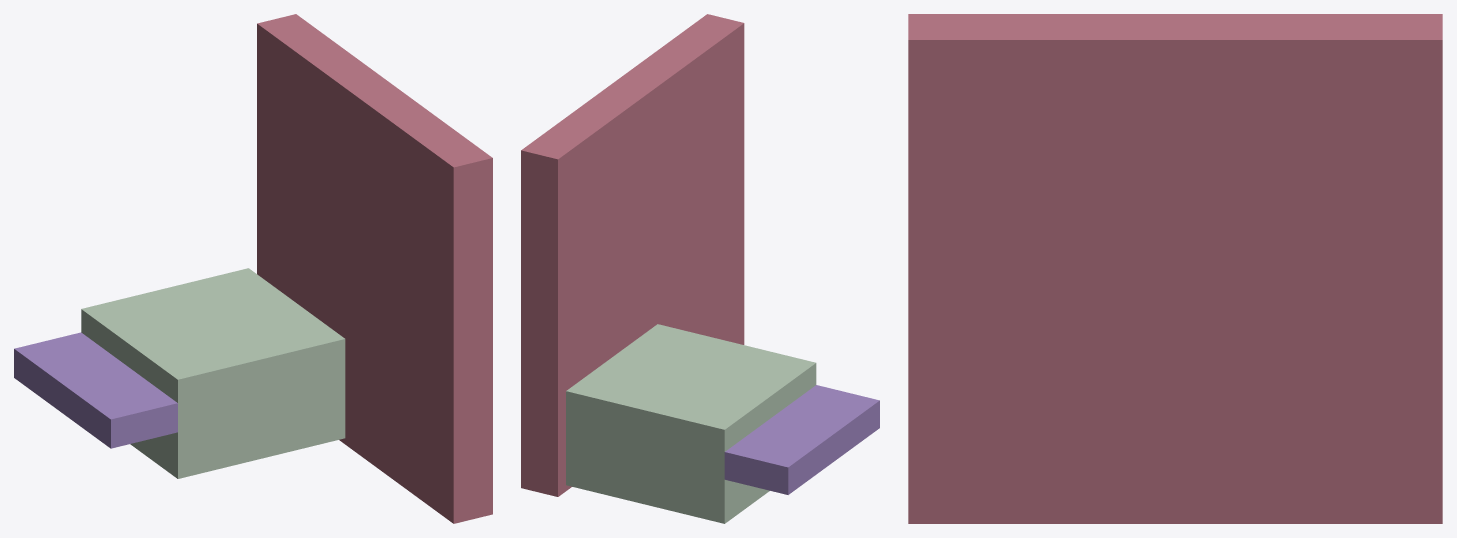
The picture shows the model from 3 angles, left to right: view 1: azimuth 30°, elevation 25°; view 2: azimuth 150°, elevation 25°; view 3: azimuth 270°, elevation 25°; orthographic projection. The views are drawn at different scales.
Visible parts, largest first — view 1: world; view 2: world; view 3: world.
Part boxes in pixels (x1,y1,x2,y2): world: [14, 14, 492, 523]; world: [521, 14, 879, 523]; world: [908, 14, 1442, 523].
Bounding box in the file's own units: 5.05 × 6.1 × 6.1.
